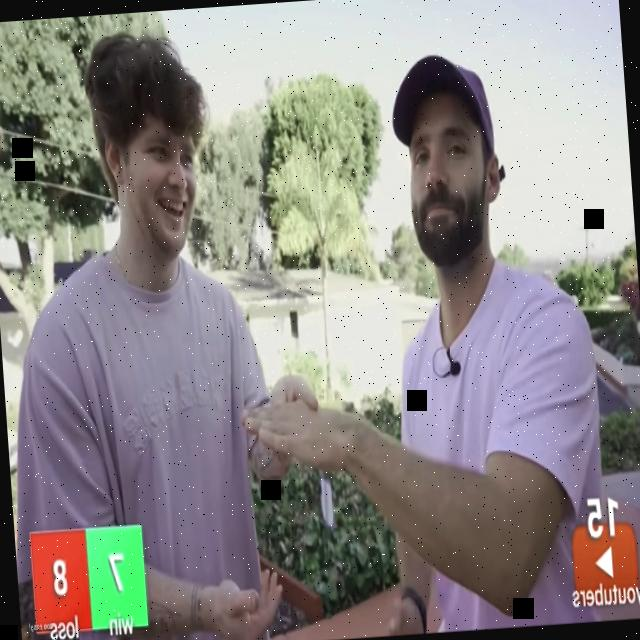Paper: (238, 396, 352, 472)
Scissors: (271, 367, 319, 412)
